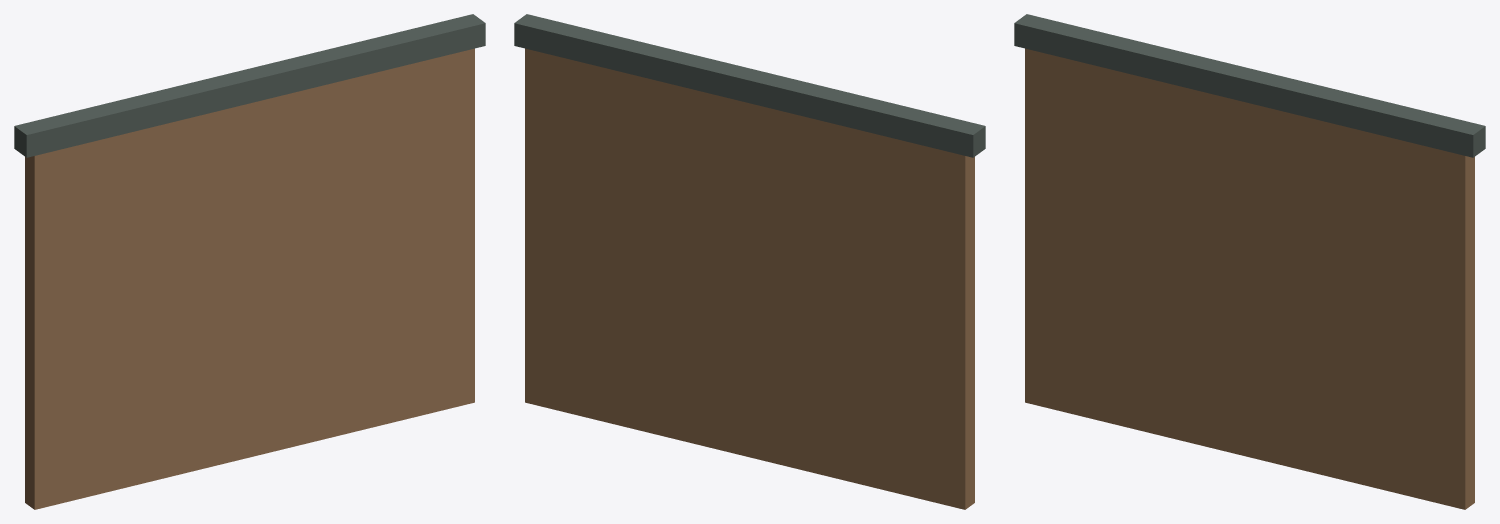
3 views of the same model, side by side, from view 1: azimuth 30°, elevation 25°; view 2: azimuth 150°, elevation 25°; view 3: azimuth 330°, elevation 25° (orthographic).
Parts seen in each view (by area): view 1: cover-panel, cover-roller; view 2: cover-panel, cover-roller; view 3: cover-panel, cover-roller.
Part boxes in pixels (bbox=[...]): cover-panel: bbox=[25, 48, 474, 509]; cover-roller: bbox=[14, 14, 485, 157]; cover-panel: bbox=[525, 48, 974, 509]; cover-roller: bbox=[514, 14, 985, 157]; cover-panel: bbox=[1025, 48, 1474, 509]; cover-roller: bbox=[1014, 14, 1485, 157].
Bounding box in the file's own units: 1.48 × 1.17 × 0.07.
